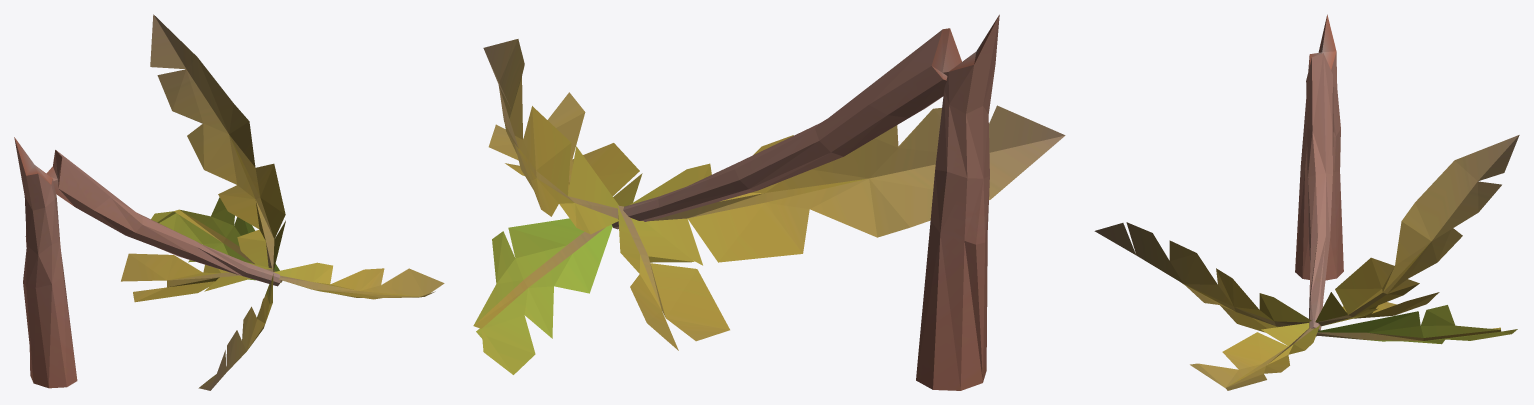
The picture shows the model from 3 angles, left to right: view 1: azimuth 30°, elevation 25°; view 2: azimuth 150°, elevation 25°; view 3: azimuth 270°, elevation 25°; orthographic projection. The views are drawn at different scales.
Parts seen in each view (by area): view 1: PalmDead2; view 2: PalmDead2; view 3: PalmDead2.
Boxes of the visible parts, bbox=[...] form: PalmDead2: bbox=[14, 14, 444, 390]; PalmDead2: bbox=[473, 14, 1065, 390]; PalmDead2: bbox=[1094, 14, 1519, 390].
Size of the model in its own units: 482 by 300 by 480.
Materials: 1 (1 with a texture image).
